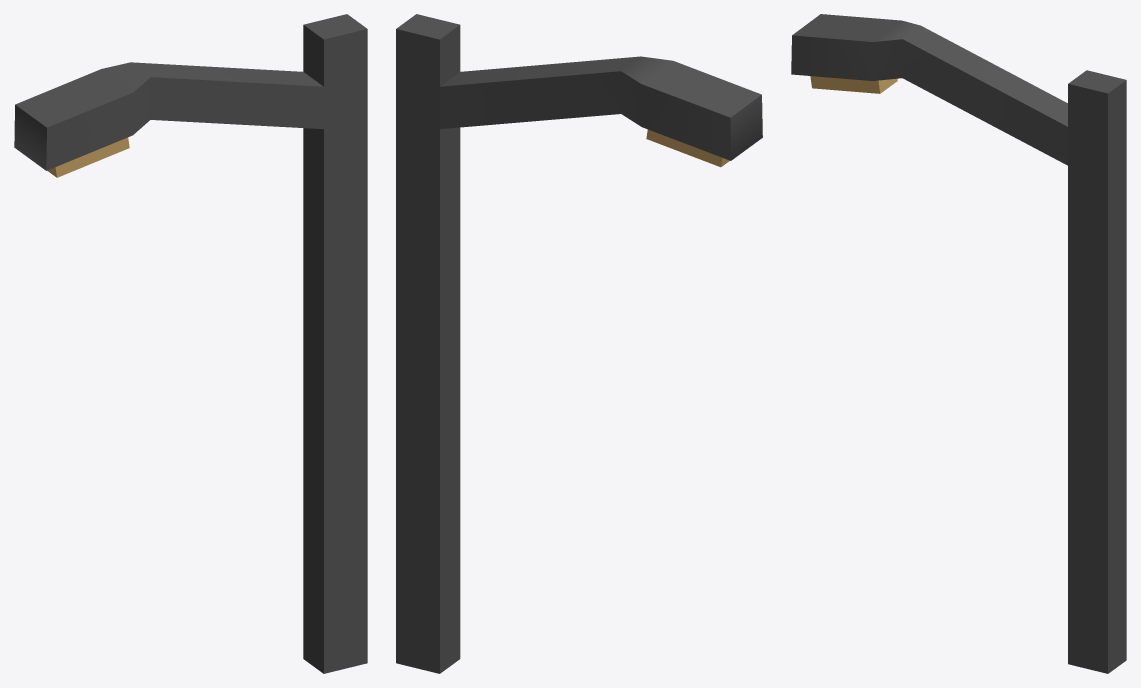
File: Light.fbx
The picture shows the model from 3 angles, left to right: view 1: azimuth 30°, elevation 25°; view 2: azimuth 150°, elevation 25°; view 3: azimuth 330°, elevation 25°; orthographic projection. The views are drawn at different scales.
Visible parts, largest first — view 1: pasted__pCube9; view 2: pasted__pCube9; view 3: pasted__pCube9.
Part boxes in pixels (x1,y1,x2,y2): pasted__pCube9: (14,14,367,673); pasted__pCube9: (396,14,762,673); pasted__pCube9: (791,14,1126,673).
Bounding box in the file's own units: 73.25 × 135 × 12.63.
